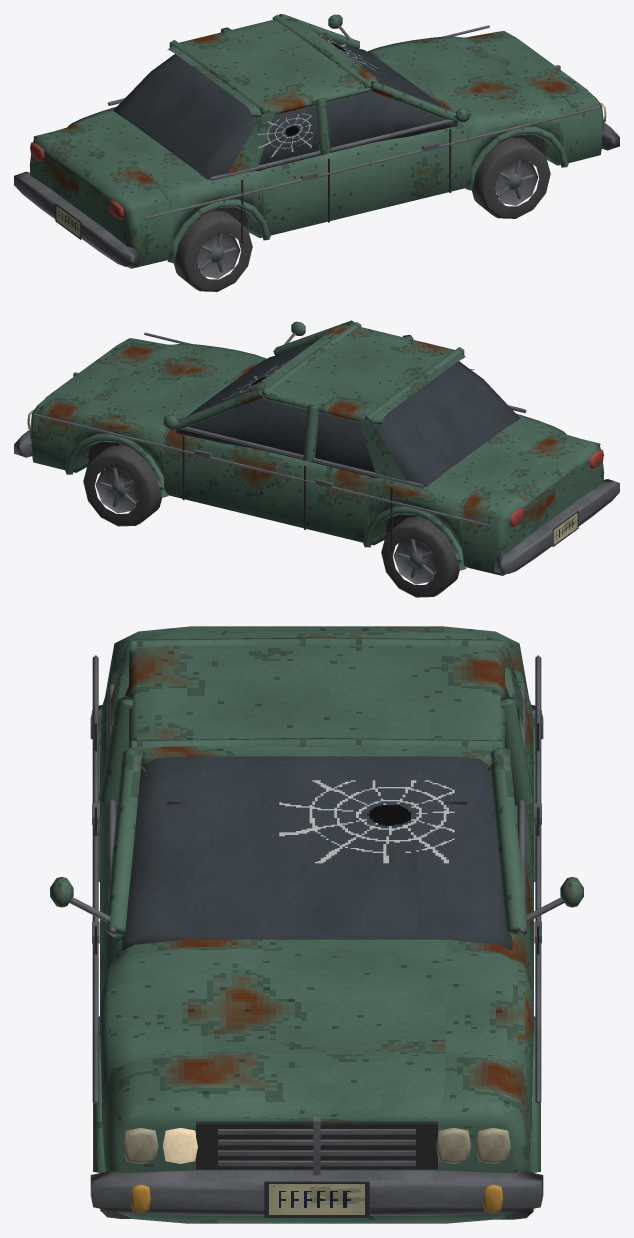
The model's file is car_wreck.glb.
The picture shows the model from 3 angles, top to bottom: view 1: azimuth 30°, elevation 25°; view 2: azimuth 150°, elevation 25°; view 3: azimuth 270°, elevation 25°; orthographic projection. The views are drawn at different scales.
Parts seen in each view (by area): view 1: detail, body-col; view 2: detail, body-col; view 3: detail.
Boxes of the visible parts, <box> form: detail: <box>14,14,619,291</box>; body-col: <box>213,134,546,224</box>; detail: <box>14,320,619,597</box>; body-col: <box>87,441,417,531</box>; detail: <box>50,626,583,1223</box>.
Size of the model in its own units: 4.6 by 1.48 by 2.14.
Materials: 11 (11 with a texture image).
